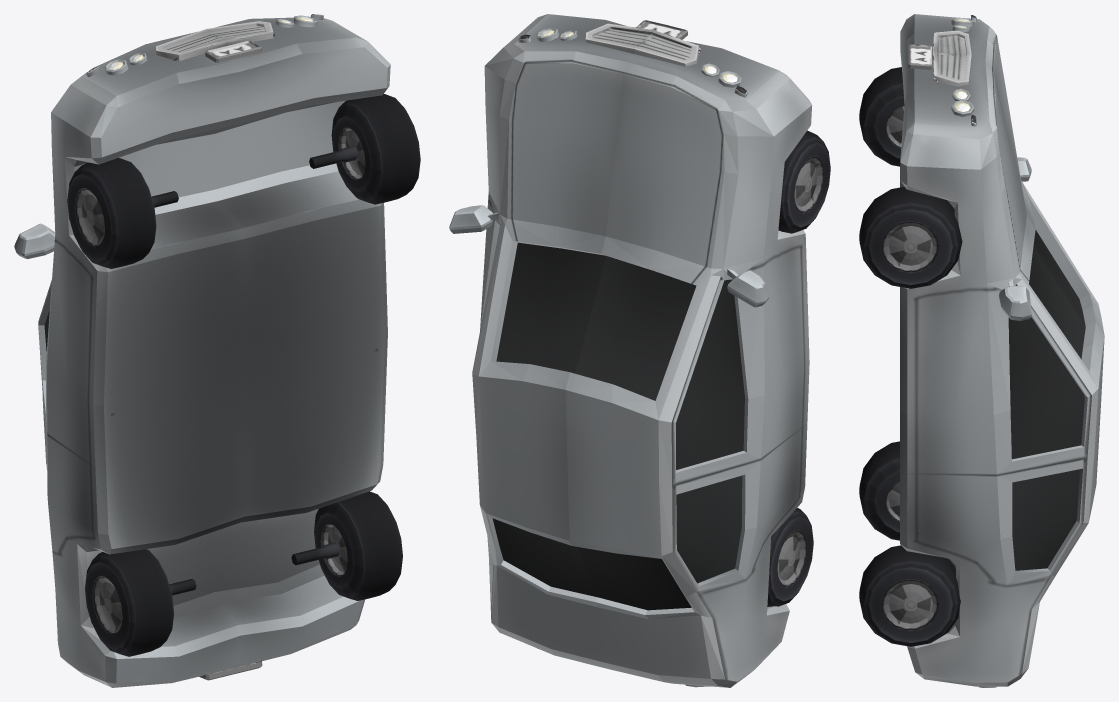
File: Car01.FBX
3 renders of one model, left to right at view 1: azimuth 30°, elevation 25°; view 2: azimuth 150°, elevation 25°; view 3: azimuth 270°, elevation 25°, orthographic. The views are drawn at different scales.
Parts seen in each view (by area): view 1: Box025, CarWheels; view 2: Box025, CarWheels; view 3: Box025, CarWheels.
Part boxes in pixels (<box>): Box025: <box>14,14,390,687</box>; CarWheels: <box>67,94,420,656</box>; Box025: <box>449,14,812,687</box>; CarWheels: <box>767,130,830,606</box>; Box025: <box>900,14,1104,687</box>; CarWheels: <box>859,67,962,646</box>.
Size of the model in its own units: 14.61 by 10.17 by 27.12.
